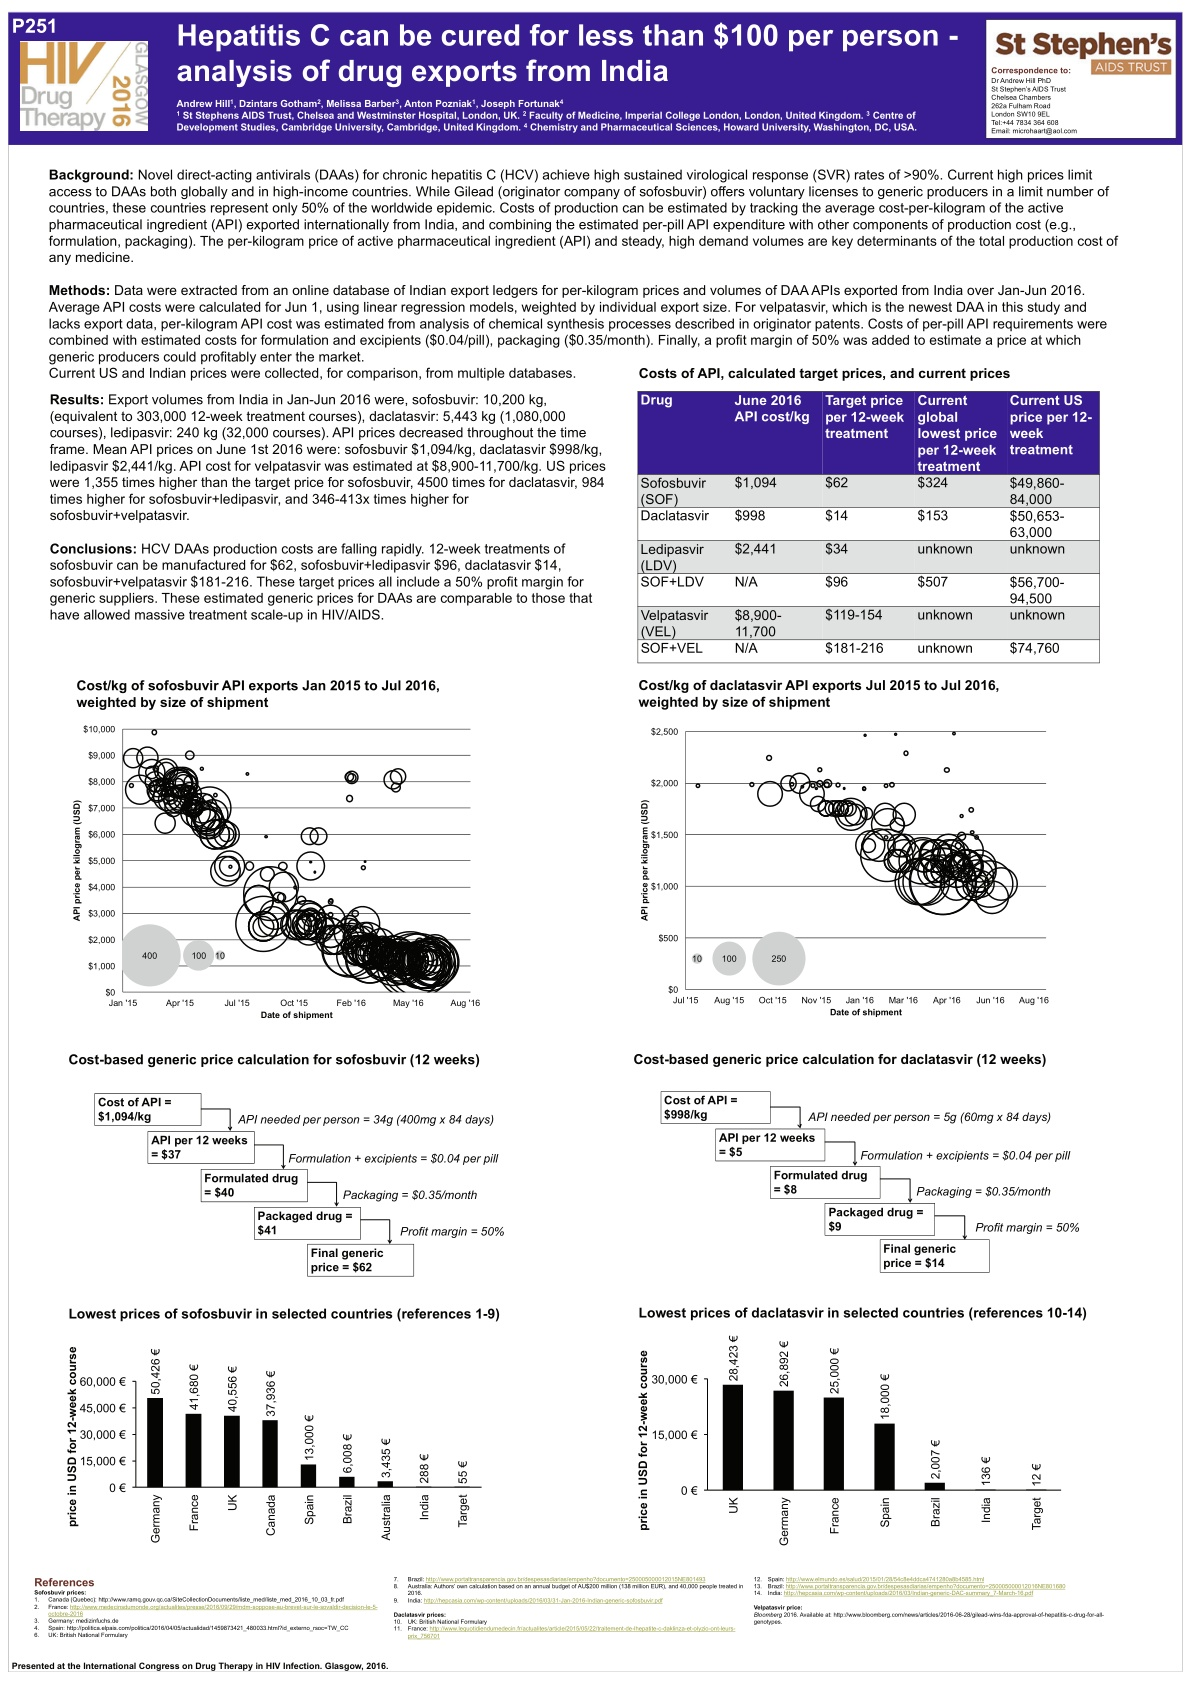partial_lined: (635, 389, 1101, 664)
